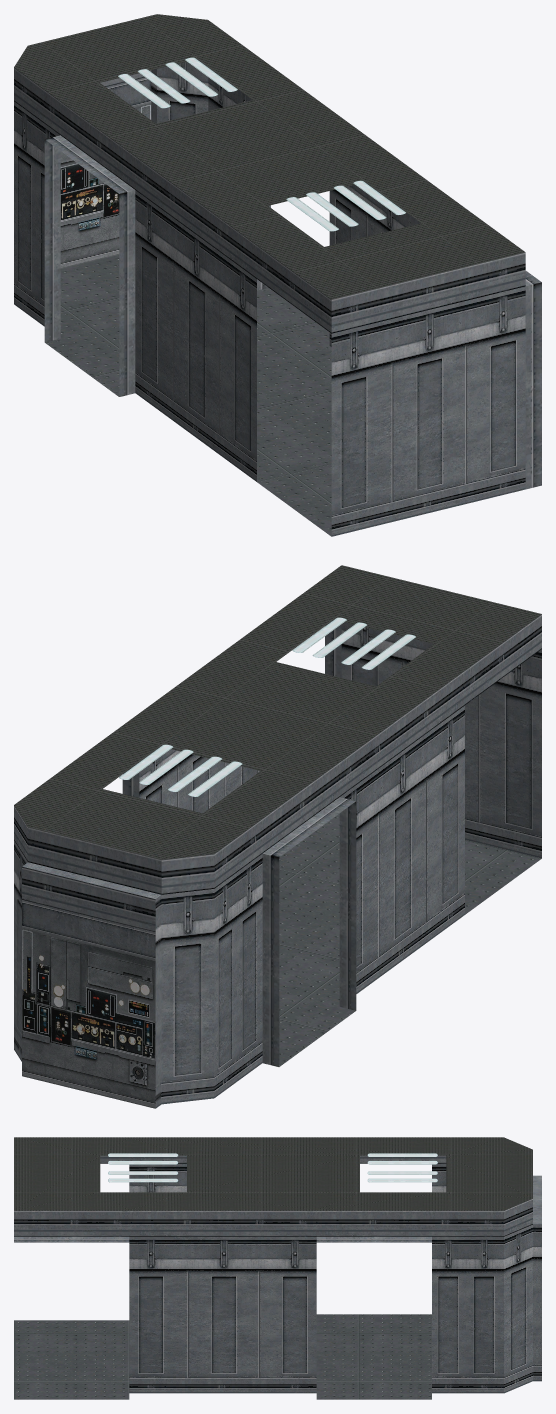
File: mun_all_military_storage_shed_impl_s01_r3_mainhall_mesh_mainhall.fbx
3 renders of one model, top to bottom at view 1: azimuth 30°, elevation 25°; view 2: azimuth 150°, elevation 25°; view 3: azimuth 270°, elevation 25°, orthographic. The views are drawn at different scales.
Visible parts, largest first — view 1: mesh_node; view 2: mesh_node; view 3: mesh_node.
Boxes of the visible parts, x1,y1,x2,y2 form: mesh_node: [14, 14, 541, 536]; mesh_node: [14, 565, 541, 1108]; mesh_node: [14, 1137, 541, 1399].
Size of the model in its own units: 3.5 by 3.63 by 9.16.
